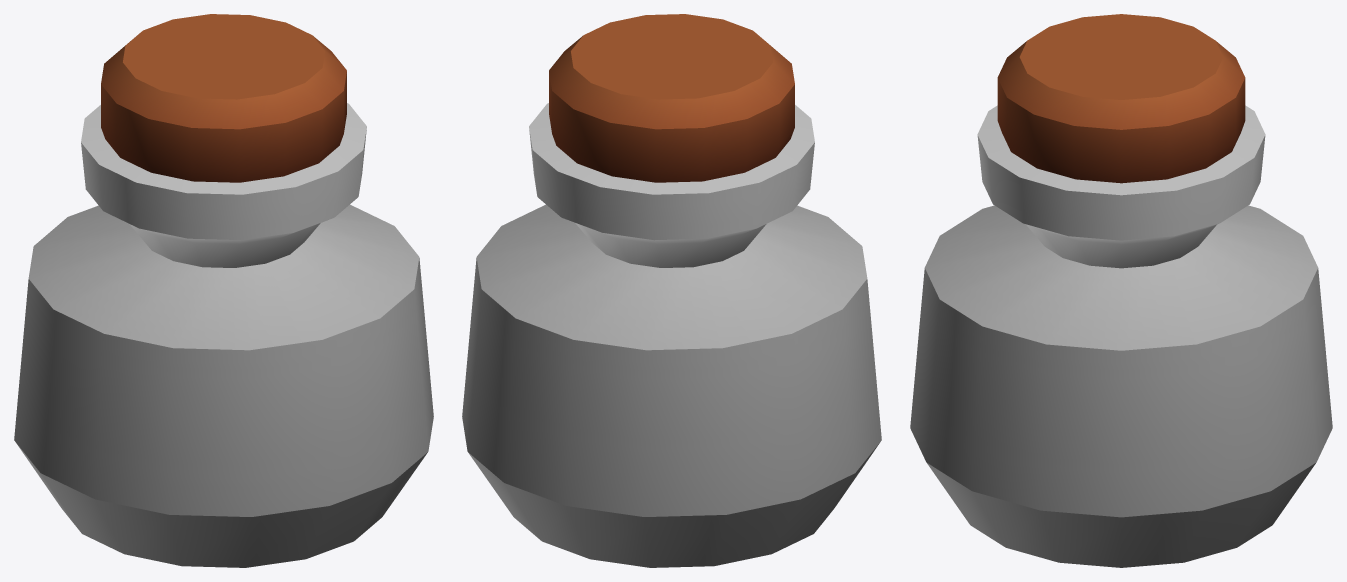
Rendered from Posion-3.fbx.
3 views of the same model, side by side, from view 1: azimuth 30°, elevation 25°; view 2: azimuth 150°, elevation 25°; view 3: azimuth 270°, elevation 25° (orthographic).
Parts seen in each view (by area): view 1: Posion-3; view 2: Posion-3; view 3: Posion-3.
Part boxes in pixels (x1,y1,x2,y2): Posion-3: (14, 14, 433, 567); Posion-3: (462, 14, 881, 567); Posion-3: (910, 14, 1332, 567).
Bounding box in the file's own units: 41.63 × 48.02 × 41.63.
